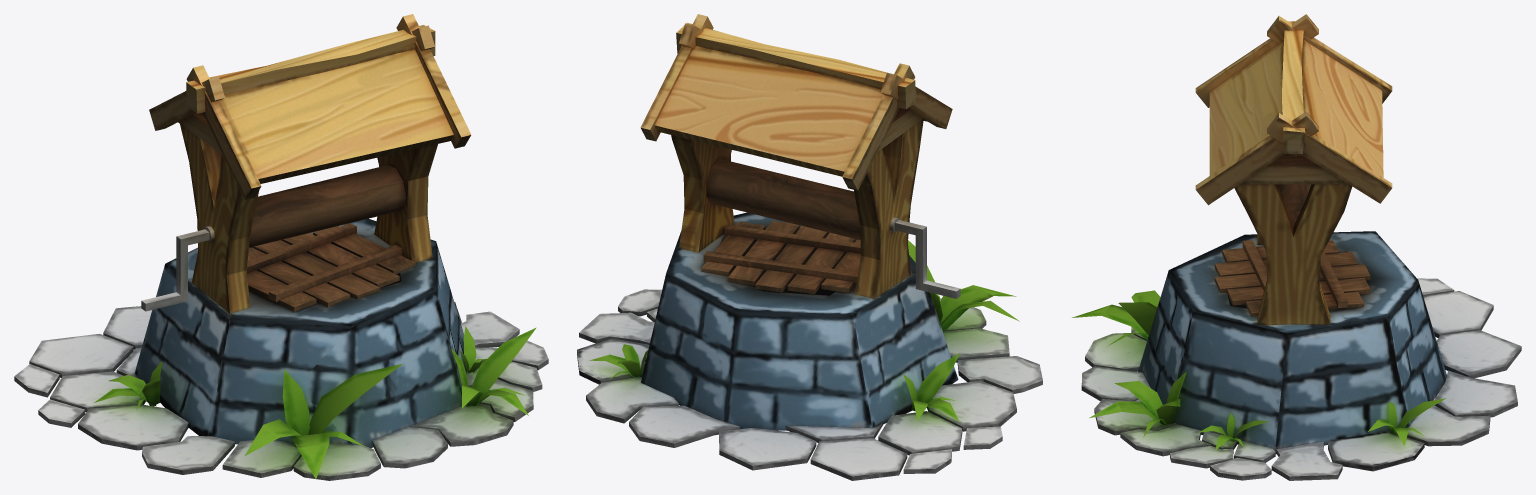
Rendered from pozo.glb.
3 views of the same model, side by side, from view 1: azimuth 30°, elevation 25°; view 2: azimuth 150°, elevation 25°; view 3: azimuth 270°, elevation 25° (orthographic). The views are drawn at different scales.
Parts seen in each view (by area): view 1: well_model_out; view 2: well_model_out; view 3: well_model_out.
Part boxes in pixels (x1,y1,x2,y2): well_model_out: [14, 14, 548, 480]; well_model_out: [577, 14, 1042, 480]; well_model_out: [1072, 14, 1521, 480].
Bounding box in the file's own units: 248 × 182 × 229.
Materials: 1 (1 with a texture image).
